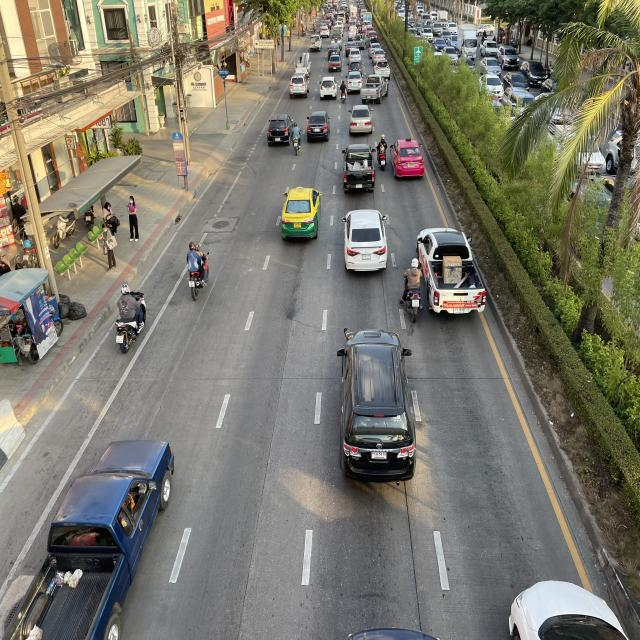bike: (114, 281, 146, 355), (398, 257, 426, 326), (186, 236, 210, 303), (376, 133, 389, 170), (290, 120, 302, 156), (339, 79, 348, 105)
car: (0, 436, 175, 640), (335, 326, 418, 485), (416, 226, 487, 317), (342, 208, 388, 272), (280, 185, 322, 242), (342, 142, 378, 194), (390, 136, 425, 180), (266, 114, 294, 148), (360, 74, 390, 104), (306, 110, 332, 142), (348, 104, 373, 135), (288, 73, 310, 100), (319, 75, 338, 101)
truck: (294, 52, 311, 76)
